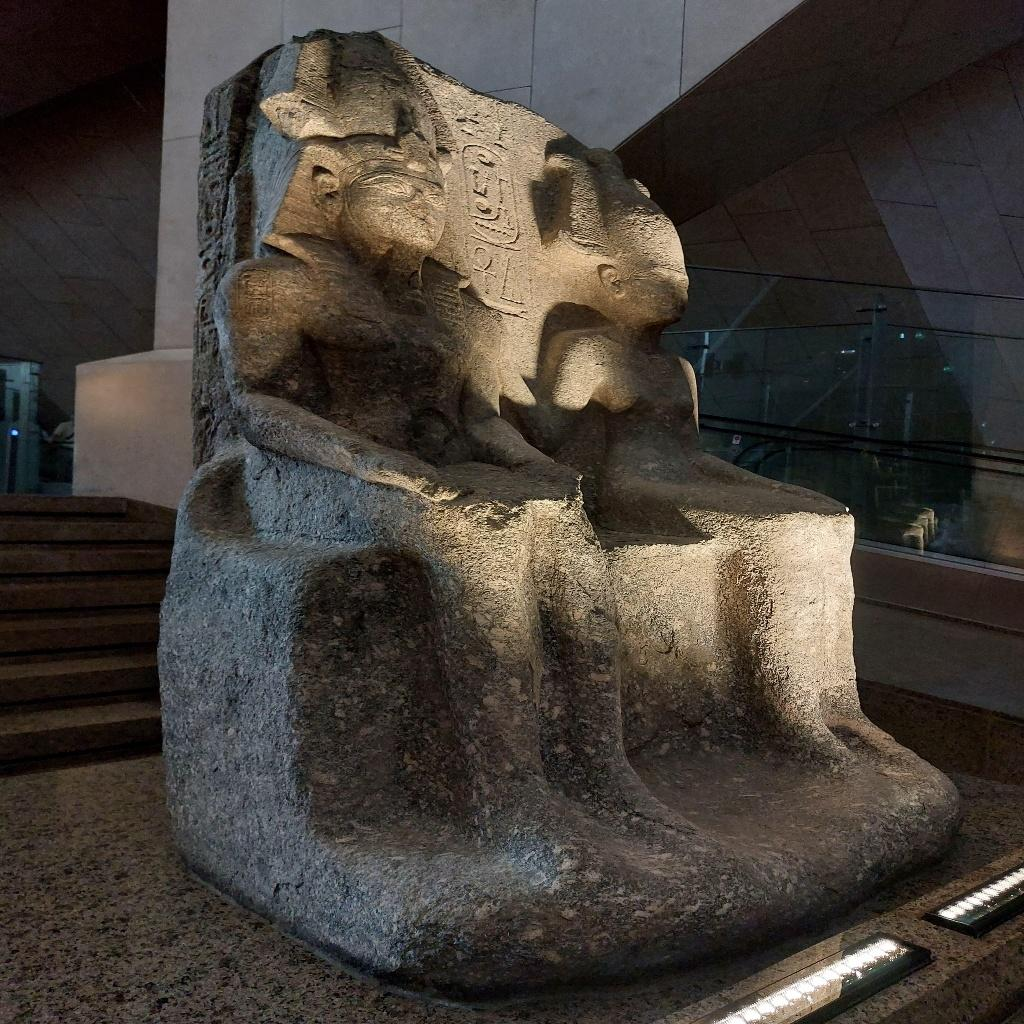Statue of King Ramesses ll - Goddess Anath: (153, 26, 965, 1000)
